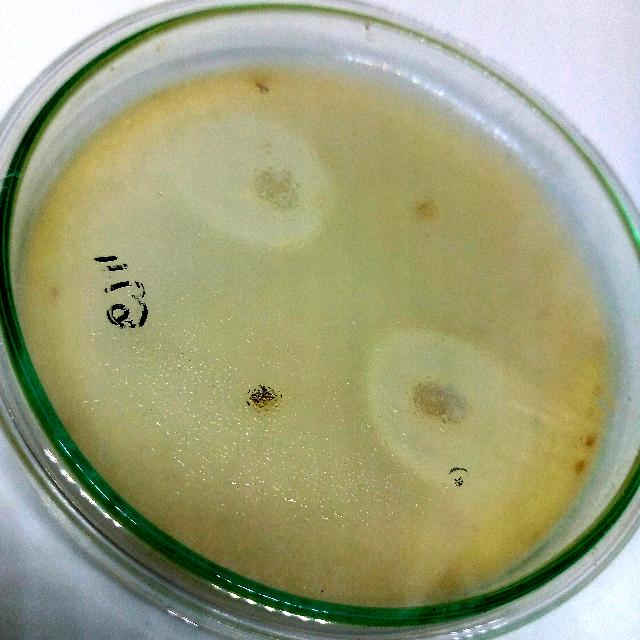colony: (249, 161, 303, 217), (396, 184, 452, 232), (412, 374, 461, 426), (240, 375, 288, 421)
